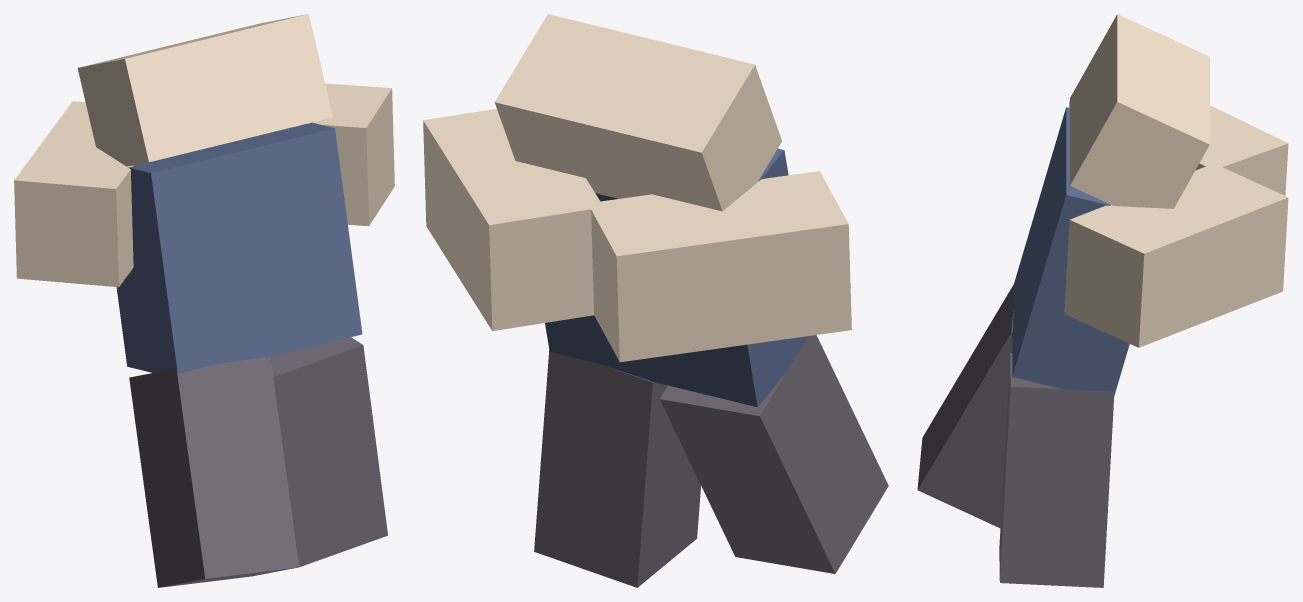
Rendered from HO_Anim_Fist_Block.fbx.
3 views of the same model, side by side, from view 1: azimuth 30°, elevation 25°; view 2: azimuth 150°, elevation 25°; view 3: azimuth 270°, elevation 25° (orthographic). The views are drawn at different scales.
Parts seen in each view (by area): view 1: Torso, Left Leg, Head, Right Leg, Left Arm, Right Arm; view 2: Left Arm, Head, Left Leg, Right Leg, Right Arm, Torso; view 3: Right Arm, Head, Right Leg, Torso, Left Leg, Left Arm.
Boxes of the visible parts, left/top/right/bottom form: Torso: left=116, top=122, right=362, bottom=373; Left Leg: left=129, top=357, right=298, bottom=587; Head: left=77, top=14, right=332, bottom=166; Right Leg: left=270, top=337, right=387, bottom=567; Left Arm: left=14, top=101, right=133, bottom=287; Right Arm: left=312, top=83, right=394, bottom=226; Left Arm: left=588, top=171, right=851, bottom=362; Head: left=494, top=14, right=781, bottom=211; Left Leg: left=660, top=335, right=888, bottom=573; Right Leg: left=534, top=351, right=700, bottom=587; Right Arm: left=423, top=108, right=600, bottom=330; Torso: left=545, top=148, right=807, bottom=407; Right Arm: left=1064, top=166, right=1288, bottom=347; Head: left=1070, top=14, right=1209, bottom=208; Right Leg: left=999, top=353, right=1114, bottom=587; Torso: left=1012, top=107, right=1129, bottom=395; Left Leg: left=917, top=284, right=1013, bottom=527; Left Arm: left=1069, top=100, right=1288, bottom=195.
Size of the model in its own units: 4.11 by 5.17 by 3.57.
